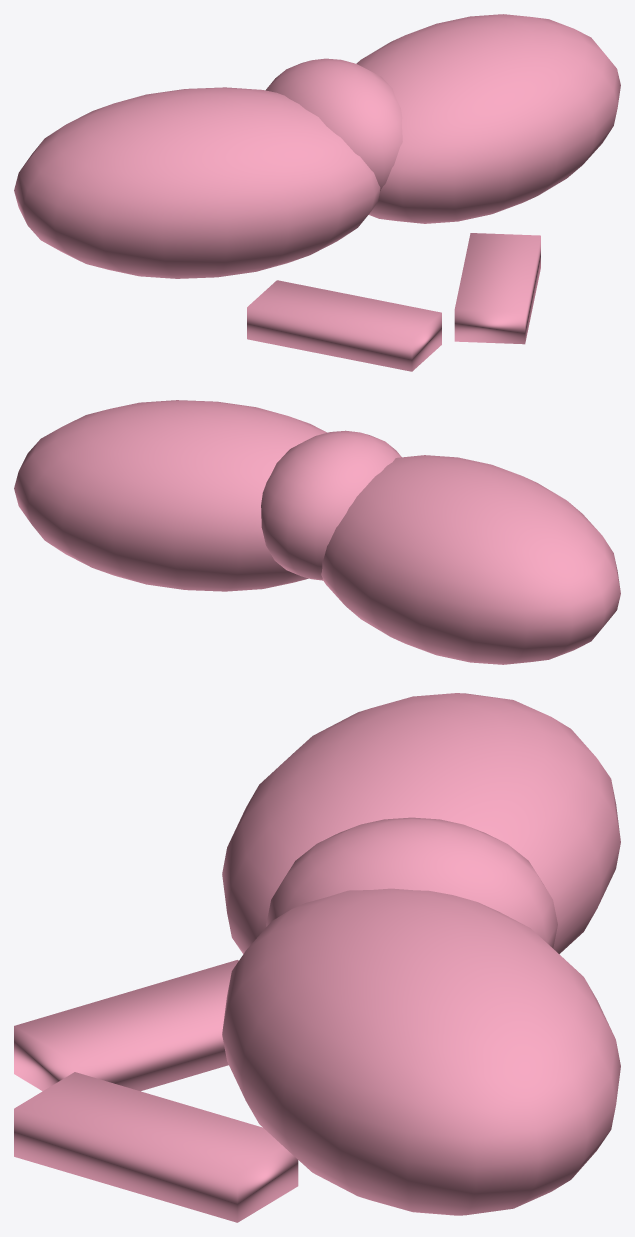
Rendered from charm-satin-bow.glb.
3 renders of one model, top to bottom at view 1: azimuth 30°, elevation 25°; view 2: azimuth 150°, elevation 25°; view 3: azimuth 270°, elevation 25°, orthographic. The views are drawn at different scales.
Parts seen in each view (by area): view 1: Sphere, Sphere.001, Cube, Sphere.002, Cube.001; view 2: Sphere, Sphere.001, Sphere.002; view 3: Sphere.001, Sphere, Cube.001, Cube, Sphere.002.
Boxes of the visible parts, x1,y1,x2,y2 form: Sphere: (14,87,380,278); Sphere.001: (356,14,620,223); Cube: (247,280,441,371); Sphere.002: (265,58,402,190); Cube.001: (454,233,540,344); Sphere: (321,455,620,664); Sphere.001: (14,400,326,591); Sphere.002: (261,430,401,580); Sphere.001: (222,888,620,1215); Sphere: (222,693,620,953); Cube.001: (14,1072,298,1222); Cube: (14,960,238,1091); Sphere.002: (266,817,557,948).
Bounding box in the file's own units: 0.0106 × 0.00334 × 0.00641.
